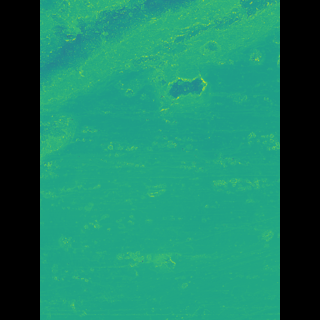Loch: (69, 0, 250, 179)
